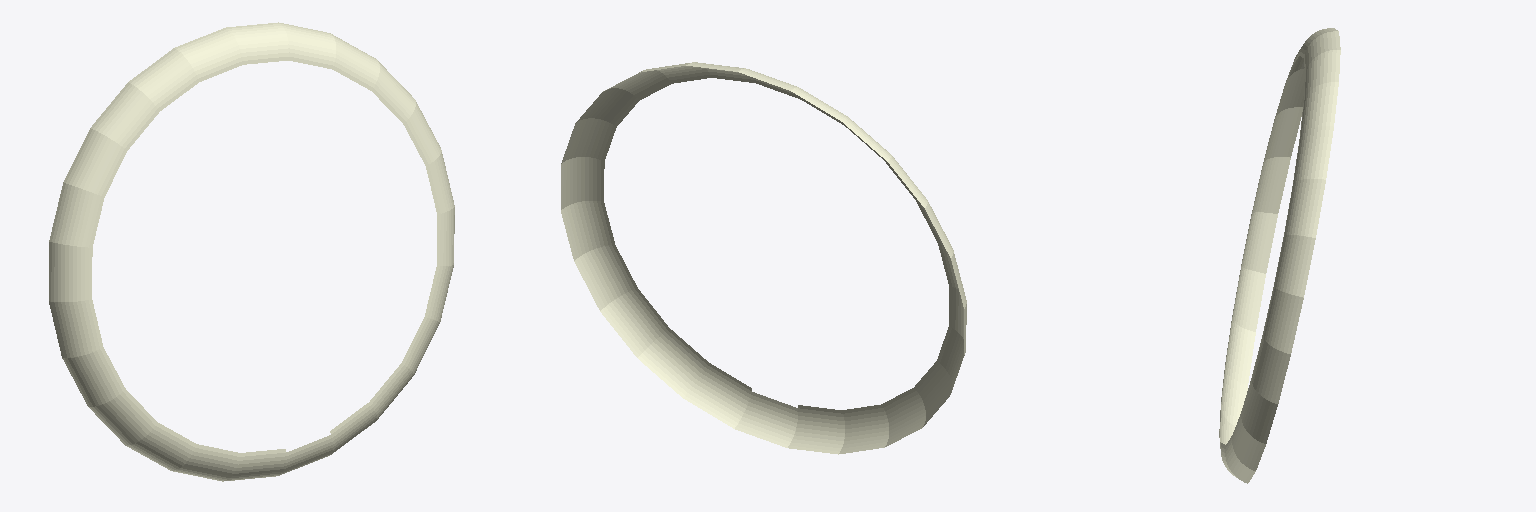
The model's file is original-32.obj.
The picture shows the model from 3 angles: view 1: azimuth 30°, elevation 25°; view 2: azimuth 150°, elevation 25°; view 3: azimuth 270°, elevation 25°; orthographic projection.
Visible parts, largest first — view 1: mesh6/mesh6-geometry/material_0#mesh6-geometry; view 2: mesh6/mesh6-geometry/material_0#mesh6-geometry; view 3: mesh6/mesh6-geometry/material_0#mesh6-geometry.
Boxes of the visible parts, box(x1,y1,x2,y2) form: mesh6/mesh6-geometry/material_0#mesh6-geometry: box(49, 22, 454, 481); mesh6/mesh6-geometry/material_0#mesh6-geometry: box(561, 62, 966, 454); mesh6/mesh6-geometry/material_0#mesh6-geometry: box(1219, 28, 1340, 483).
Bounding box in the file's own units: 0.0622 × 0.0608 × 0.0162.